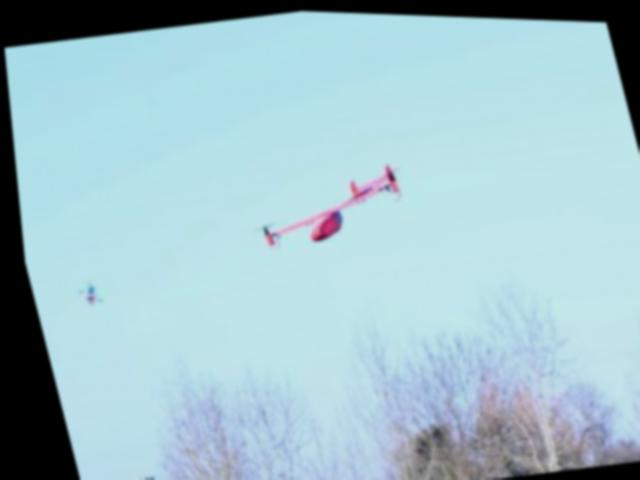uav: (231, 146, 423, 264)
